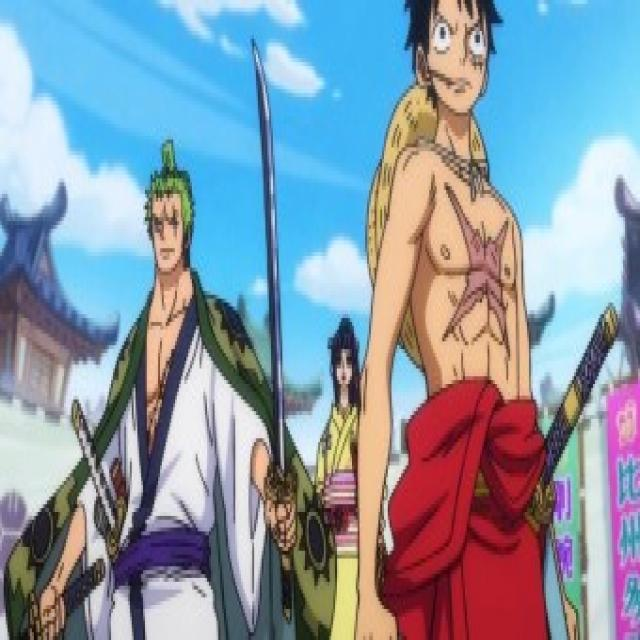Luffy: (395, 0, 533, 124)
Zoro: (130, 123, 217, 309)
